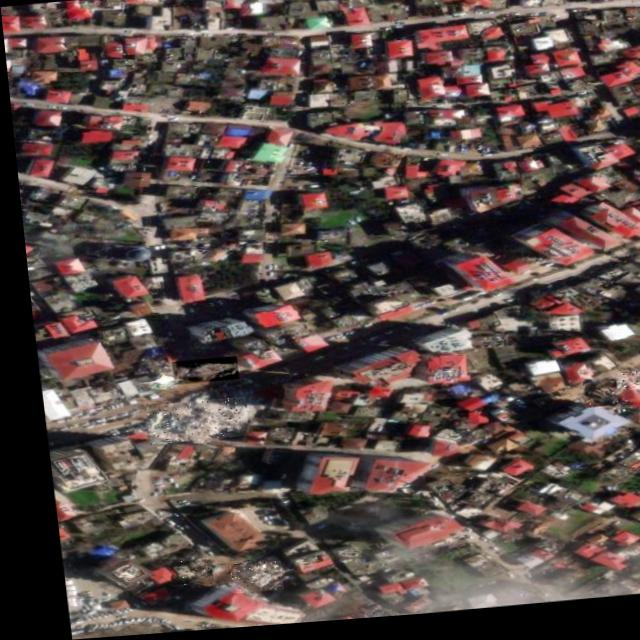Rubble: (136, 398, 240, 445), (163, 357, 230, 385), (216, 563, 270, 595), (156, 558, 201, 588), (573, 385, 608, 416), (612, 377, 640, 398)
